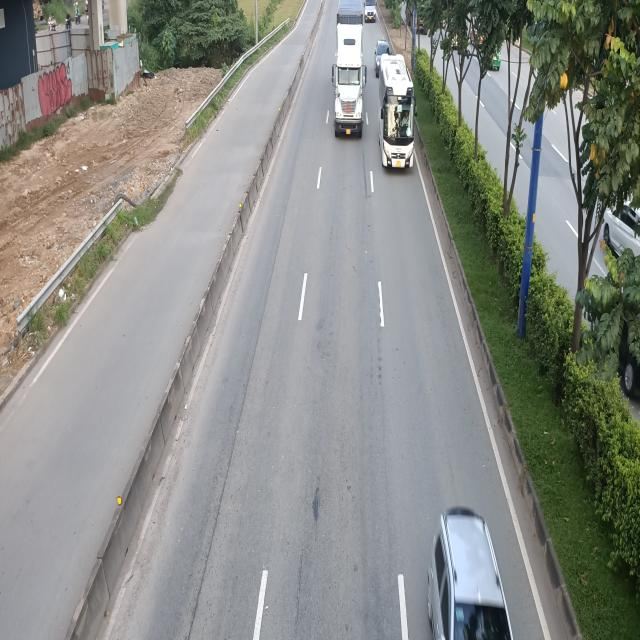coach: (379, 56, 419, 173)
container: (332, 2, 367, 138)
